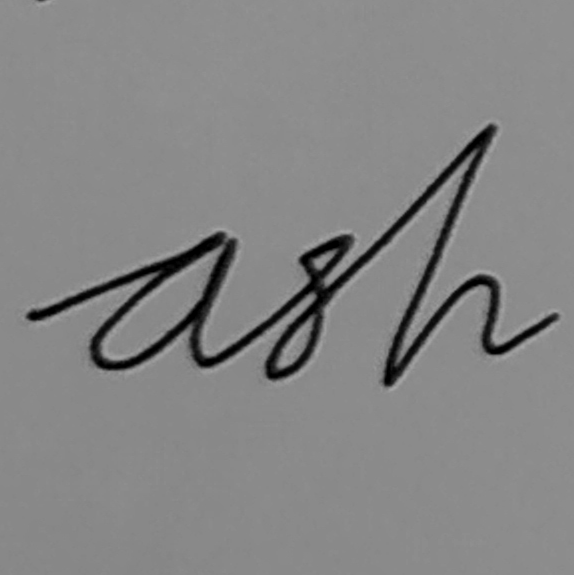a: (80, 226, 242, 375)
h: (377, 120, 510, 389)
s: (258, 229, 359, 386)
